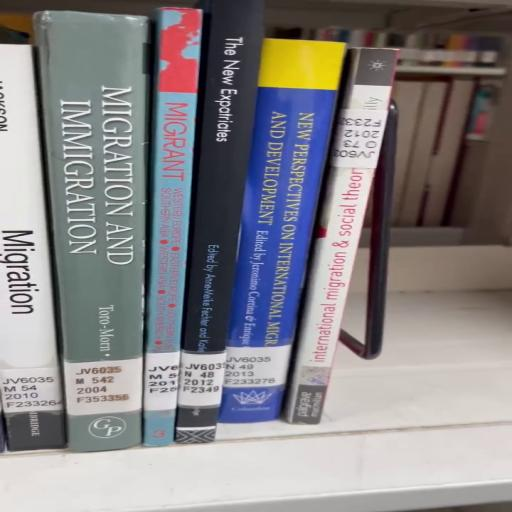reverse: (285, 49, 399, 426)
